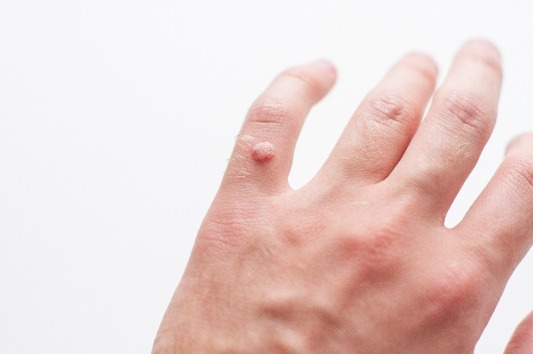Warts: (245, 130, 284, 176)
